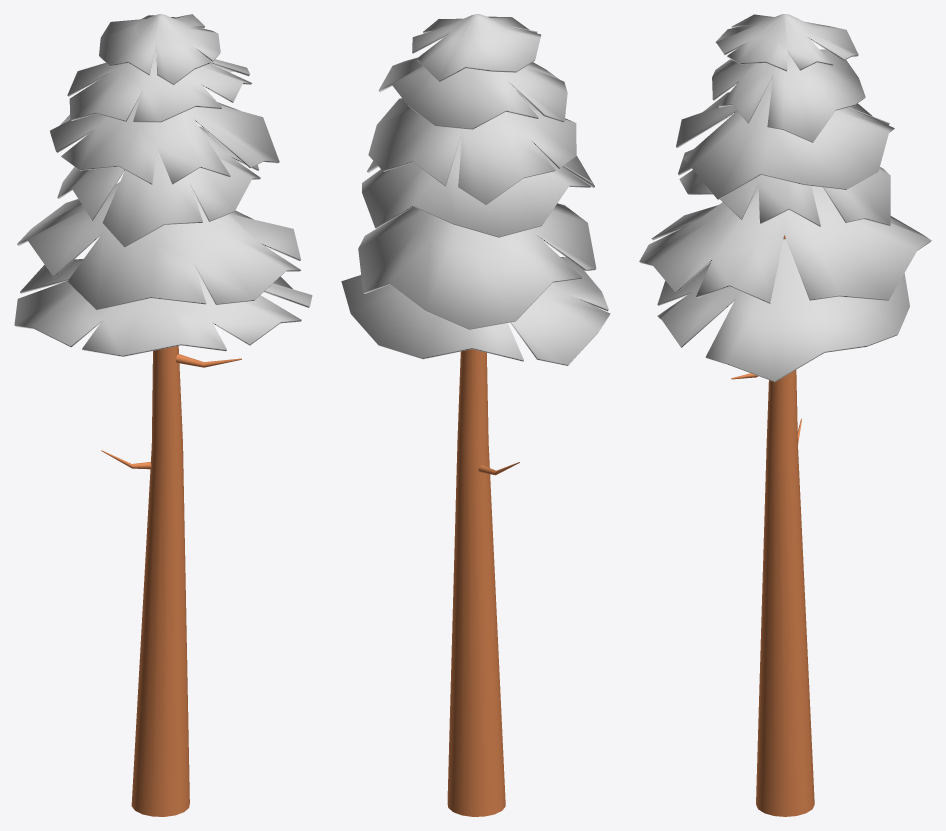
File: PineTree.fbx
3 renders of one model, left to right at view 1: azimuth 30°, elevation 25°; view 2: azimuth 150°, elevation 25°; view 3: azimuth 270°, elevation 25°, orthographic.
Parts seen in each view (by area): view 1: Default Tree; view 2: Default Tree; view 3: Default Tree.
Part boxes in pixels (x1,y1,x2,y2): Default Tree: [14, 14, 312, 816]; Default Tree: [341, 14, 610, 816]; Default Tree: [639, 14, 931, 816].
Bounding box in the file's own units: 424 × 1261 × 423.
